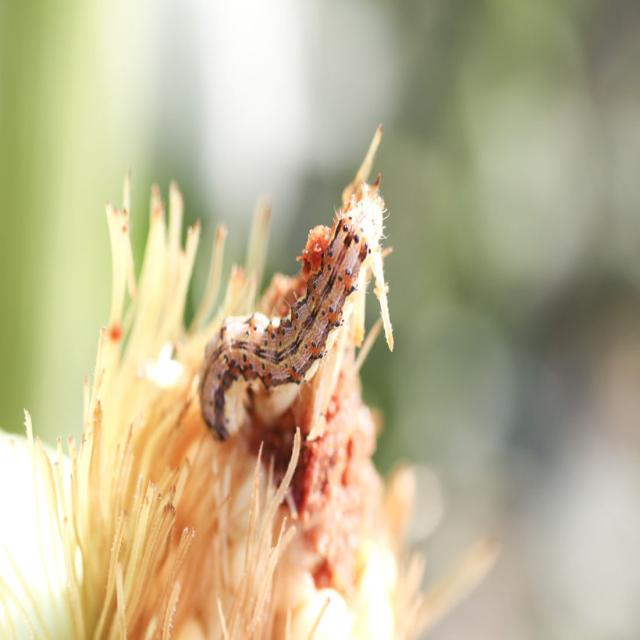Corn-earworm: (174, 199, 386, 442)
